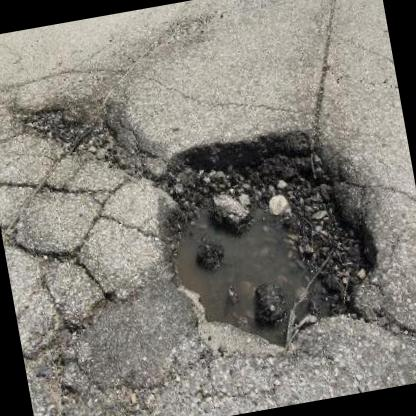pothole: (139, 112, 395, 366), (13, 85, 148, 193)
